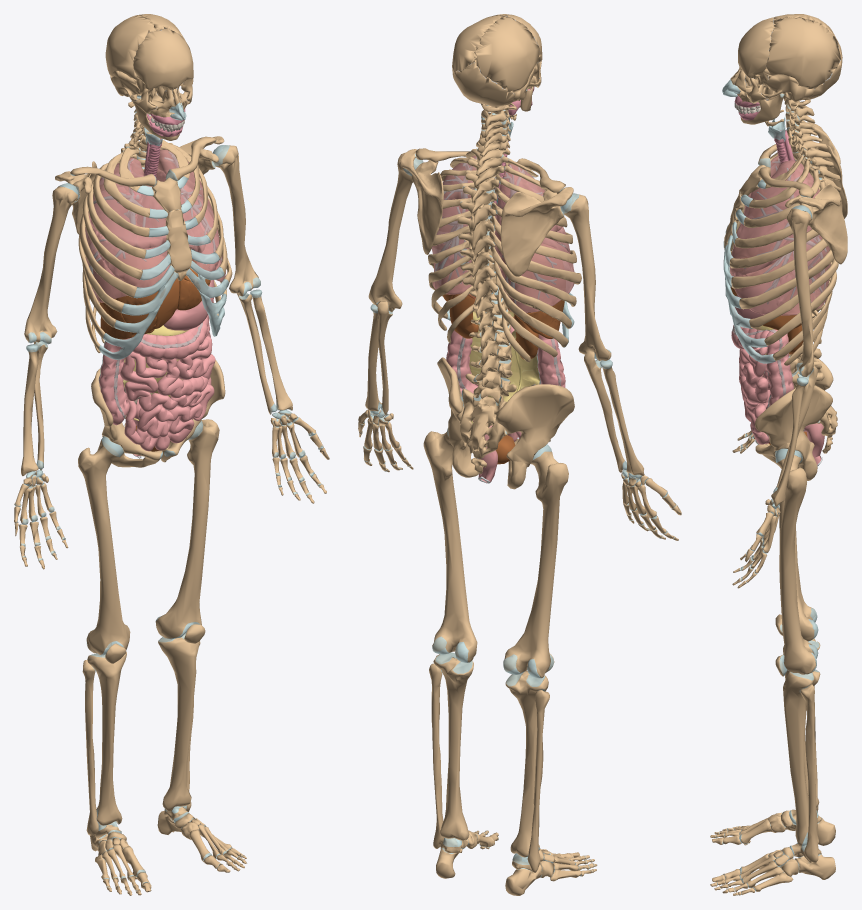
The model's file is organs.glb.
3 views of the same model, side by side, from view 1: azimuth 30°, elevation 25°; view 2: azimuth 150°, elevation 25°; view 3: azimuth 270°, elevation 25° (orthographic). The views are drawn at different scales.
Visible parts, largest first — view 1: Object_9, Object_25, Object_12, Object_24, Object_63, Object_21, Object_11, Object_55, Object_8, Object_45, Object_62, Object_54 (+19 smaller); view 2: Object_9, Object_25, Object_24, Object_12, Object_8, Object_22, Object_34, Object_35, Object_37, Object_36, Object_53, Object_62 (+24 smaller); view 3: Object_9, Object_10, Object_25, Object_12, Object_26, Object_24, Object_63, Object_64, Object_53, Object_44, Object_21, Object_11 (+28 smaller).
Part boxes in pixels (<box>): Object_9: <box>24,86,281,835</box>; Object_25: <box>34,293,279,891</box>; Object_12: <box>14,136,329,892</box>; Object_24: <box>21,270,236,891</box>; Object_63: <box>88,149,219,271</box>; Object_21: <box>82,28,246,858</box>; Object_11: <box>14,78,323,887</box>; Object_55: <box>120,336,214,444</box>; Object_8: <box>20,15,321,889</box>; Object_45: <box>99,185,178,359</box>; Object_62: <box>85,188,169,302</box>; Object_54: <box>130,351,203,451</box>; Object_9: <box>368,153,628,872</box>; Object_25: <box>377,301,628,870</box>; Object_24: <box>428,255,644,860</box>; Object_12: <box>359,148,681,895</box>; Object_8: <box>364,16,673,872</box>; Object_22: <box>500,187,573,276</box>; Object_34: <box>458,105,512,374</box>; Object_35: <box>457,112,510,331</box>; Object_37: <box>459,159,507,473</box>; Object_36: <box>465,103,516,403</box>; Object_53: <box>446,311,565,482</box>; Object_62: <box>494,214,574,312</box>; Object_9: <box>765,208,818,812</box>; Object_10: <box>734,17,840,858</box>; Object_25: <box>719,357,833,892</box>; Object_12: <box>712,129,835,894</box>; Object_26: <box>755,385,832,480</box>; Object_24: <box>716,262,836,885</box>; Object_63: <box>729,155,819,276</box>; Object_64: <box>731,194,830,315</box>; Object_53: <box>734,295,824,464</box>; Object_44: <box>723,179,775,877</box>; Object_21: <box>733,17,833,895</box>; Object_11: <box>724,73,821,886</box>.
Size of the model in its own units: 0.6686 by 1.7 by 0.2501.
